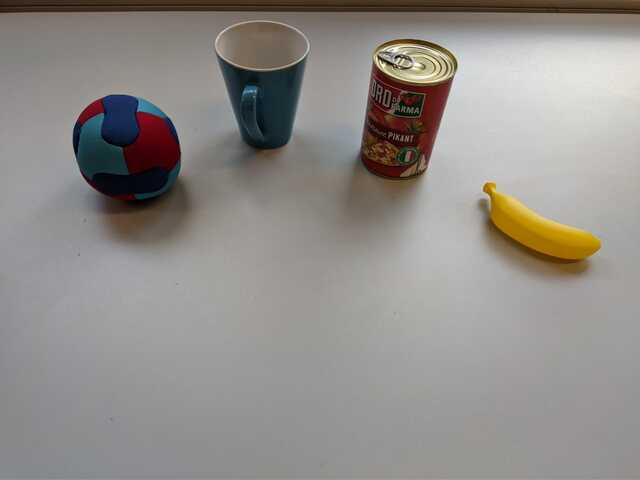005_tomato_soup_can: (358, 32, 460, 185)
011_banana: (474, 177, 607, 267)
025_mug: (210, 17, 315, 154)
057_racquetball: (65, 88, 192, 204)
